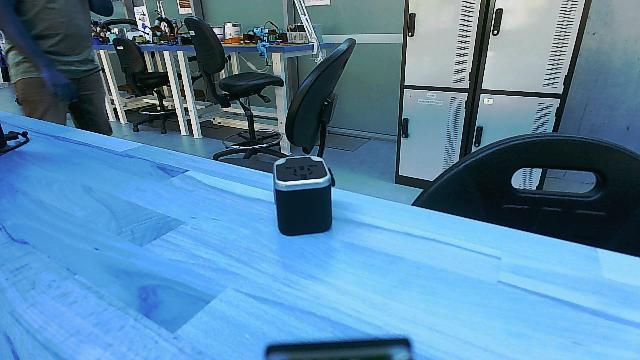adapter: (269, 148, 337, 240)
